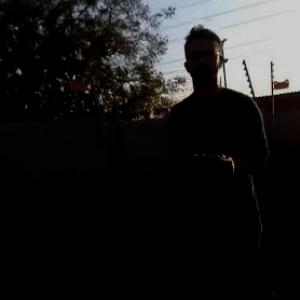follow: (161, 18, 276, 299)
